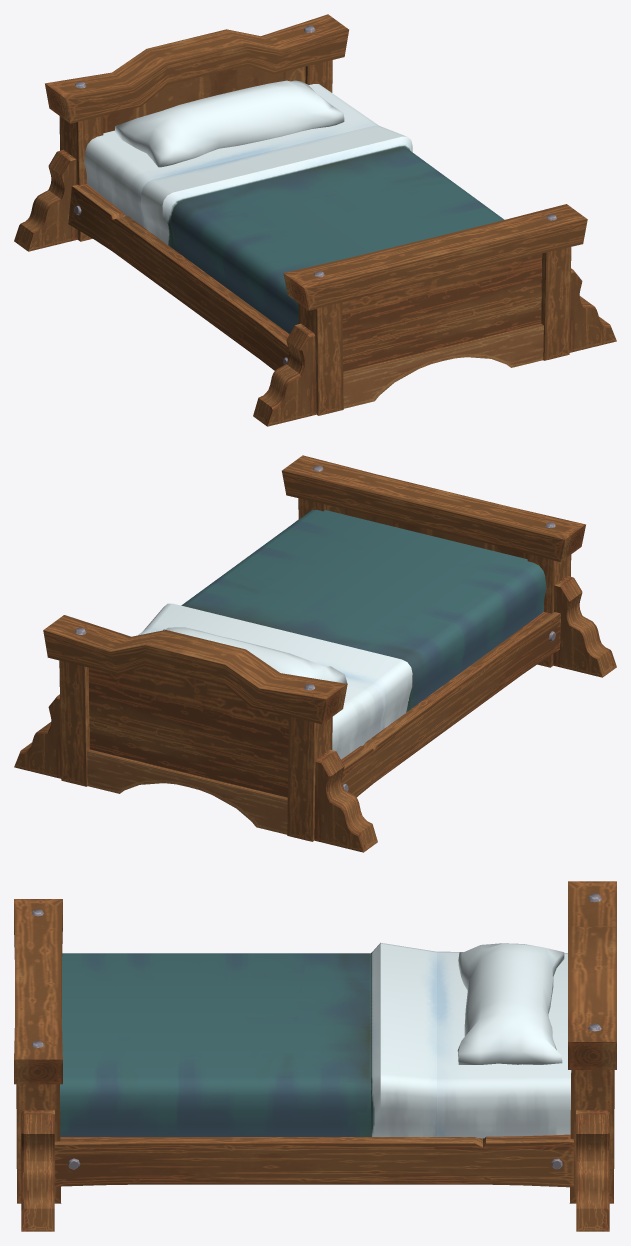
The model's file is Bed_Twin1.fbx.
The picture shows the model from 3 angles, top to bottom: view 1: azimuth 30°, elevation 25°; view 2: azimuth 150°, elevation 25°; view 3: azimuth 270°, elevation 25°; orthographic projection. The views are drawn at different scales.
Parts seen in each view (by area): view 1: Bed_Twin1; view 2: Bed_Twin1; view 3: Bed_Twin1.
Boxes of the visible parts, x1=… form: Bed_Twin1: x1=14, y1=14, x2=616, y2=426; Bed_Twin1: x1=14, y1=455, x2=616, y2=852; Bed_Twin1: x1=14, y1=881, x2=616, y2=1231.
Size of the model in its own units: 188 by 80.51 by 241.
